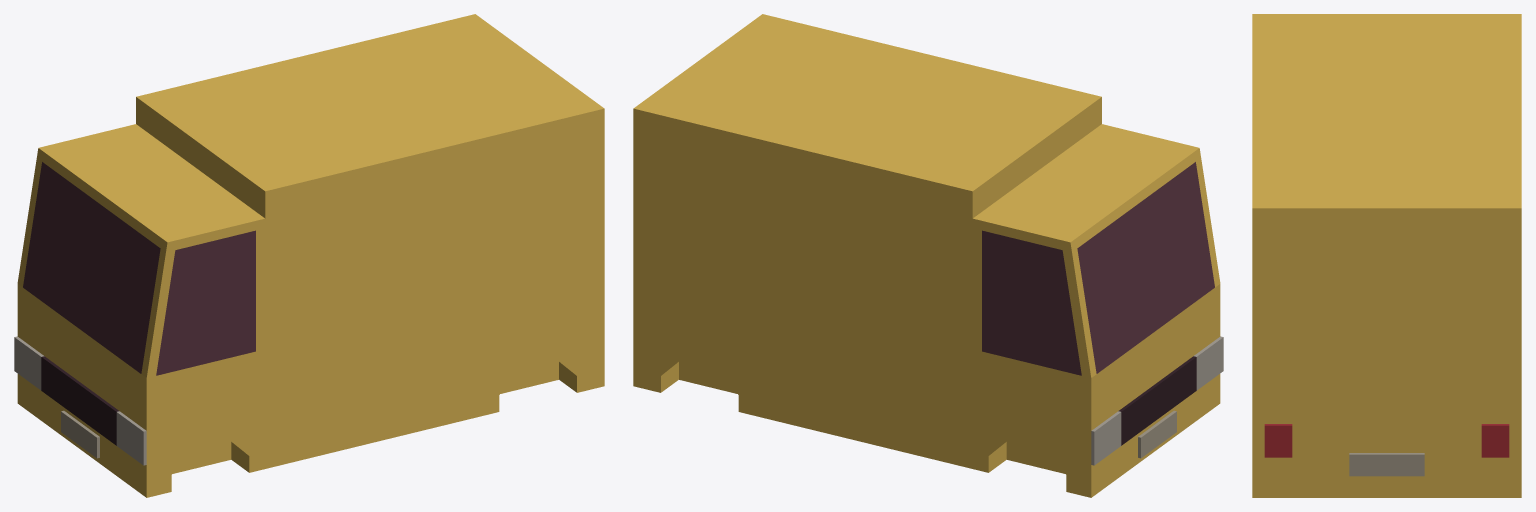
Rendered from MiniTruck_Yellow.fbx.
3 renders of one model, left to right at view 1: azimuth 30°, elevation 25°; view 2: azimuth 150°, elevation 25°; view 3: azimuth 270°, elevation 25°, orthographic. The views are drawn at different scales.
Parts seen in each view (by area): view 1: MiniTruck_Yellow, MiniTruck_Lights; view 2: MiniTruck_Yellow, MiniTruck_Lights; view 3: MiniTruck_Yellow, MiniTruck_Lights.
Part boxes in pixels (x1,y1,x2,y2): MiniTruck_Yellow: [17, 14, 604, 497]; MiniTruck_Lights: [14, 336, 146, 465]; MiniTruck_Yellow: [633, 14, 1220, 497]; MiniTruck_Lights: [1091, 336, 1223, 465]; MiniTruck_Yellow: [1252, 14, 1521, 497]; MiniTruck_Lights: [1264, 424, 1509, 457].
Bounding box in the file's own units: 4.46 × 2.55 × 2.15.
